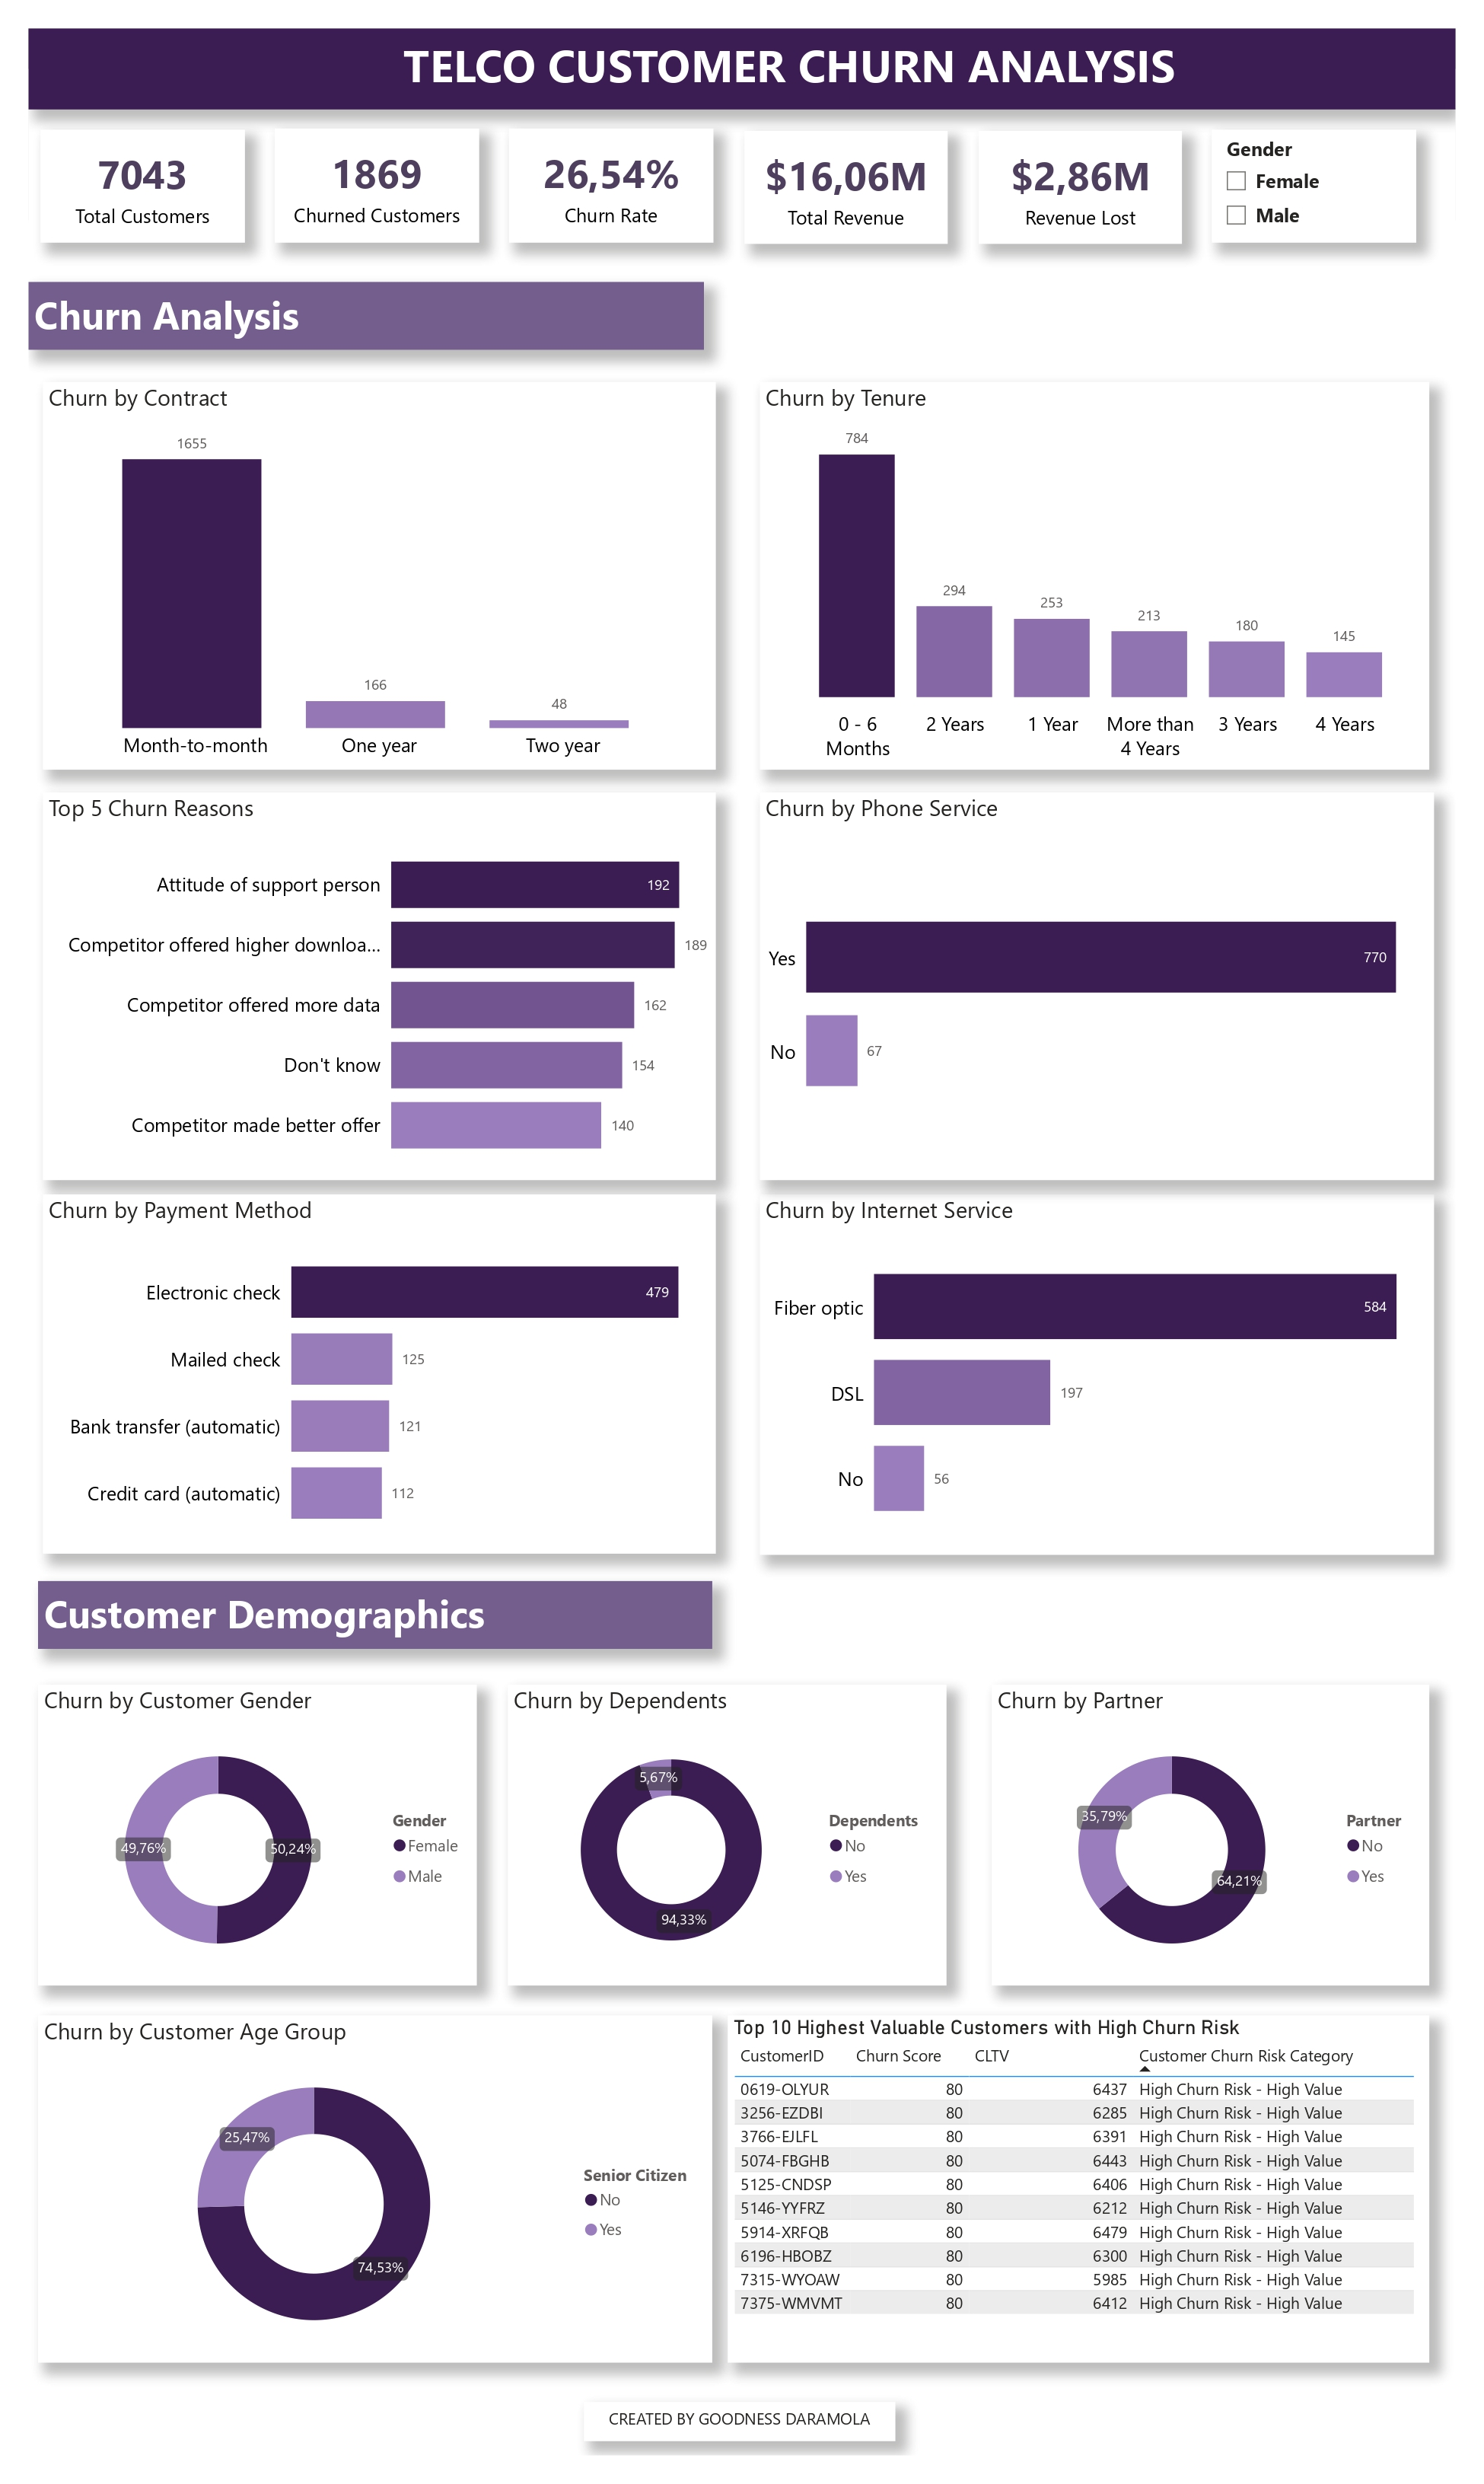

This screenshot's page, from the dashboard's own definition file:
{"tool":"powerbi","page":{"name":"Page 1","canvas":[1200,2040],"ordinal":0},"visuals":[{"type":"textbox","box":[0,0,1280,68.3],"z":0},{"type":"card","fields":{"Values":["#Measures.Total Customers"]},"box":[10,85,171.7,95],"z":1000},{"type":"card","fields":{"Values":["#Measures.Total Churnned Customers"]},"box":[207.3,84.3,171.4,95.7],"z":2000},{"type":"card","fields":{"Values":["#Measures.Churn Rate"]},"box":[404.4,84.3,171.4,95.7],"z":3000},{"type":"card","fields":{"Values":["#Measures.Total Revenue"]},"box":[601.5,85.7,171.4,95.7],"z":4000},{"type":"slicer","fields":{"Values":["Telco_Churn.Gender"]},"box":[995,85,171.7,95],"z":5000},{"type":"card","fields":{"Values":["#Measures.Revenue Lost"]},"box":[798.6,85.7,171.4,95.7],"z":6000},{"type":"clusteredBarChart","title":"Top 5 Churn Reasons","fields":{"Category":["Telco_Churn.Churn Reason"],"Y":["CountNonNull(Telco_Churn.CustomerID)"]},"box":[11.7,641.7,566.7,326.7],"z":7000},{"type":"clusteredColumnChart","title":"Churn by Contract","fields":{"Category":["Telco_Churn.Contract"],"Y":["Sum(Telco_Churn.Churn Value)"]},"box":[11.7,296.7,566.7,326.7],"z":8000},{"type":"clusteredColumnChart","title":"Churn by Tenure","fields":{"Y":["Sum(Telco_Churn.Churn Value)"],"Category":["Telco_Churn.Tenure Months (groups)"]},"box":[615,296.7,563.3,326.7],"z":9000},{"type":"clusteredBarChart","title":"Churn by Internet Service","fields":{"Category":["Telco_Churn.Internet Service"],"Y":["Sum(Telco_Churn.Churn Value)"]},"box":[615,980,566.7,303.3],"z":10000},{"type":"clusteredBarChart","title":"Churn by Payment Method","fields":{"Y":["Sum(Telco_Churn.Churn Value)"],"Category":["Telco_Churn.Payment Method"]},"box":[11.7,980,566.7,301.7],"z":11000},{"type":"clusteredBarChart","title":"Churn by Phone Service","fields":{"Y":["Sum(Telco_Churn.Churn Value)"],"Category":["Telco_Churn.Phone Service"]},"box":[615,641.7,566.7,326.7],"z":12000},{"type":"textbox","box":[8.3,1305,566.7,56.7],"z":13000},{"type":"donutChart","title":"Churn by Customer Gender","fields":{"Category":["Telco_Churn.Gender"],"Y":["Sum(Telco_Churn.Churn Value)"]},"box":[8.3,1391.7,368.3,253.3],"z":14000},{"type":"donutChart","title":"Churn by Dependents","fields":{"Category":["Telco_Churn.Dependents"],"Y":["Sum(Telco_Churn.Churn Value)"]},"box":[403.3,1391.7,368.3,253.3],"z":15000},{"type":"donutChart","title":"Churn by Partner","fields":{"Category":["Telco_Churn.Partner"],"Y":["Sum(Telco_Churn.Churn Value)"]},"box":[810,1391.7,368.3,253.3],"z":16000},{"type":"donutChart","title":"Churn by Customer Age Group","fields":{"Y":["Sum(Telco_Churn.Churn Value)"],"Series":["Telco_Churn.Senior Citizen"]},"box":[8.3,1670,566.7,291.7],"z":17000},{"type":"tableEx","title":"Top 10 Highest Valuable Customers with High Churn Risk","fields":{"Values":["Telco_Churn.CustomerID","Telco_Churn.Churn Score","Telco_Churn.CLTV","Telco_Churn.Customer Churn Risk Category"]},"box":[588.3,1670,590,291.7],"z":18000},{"type":"textbox","box":[467.5,1995,261.7,33.3],"z":19000},{"type":"textbox","box":[0,212.5,567.5,57.5],"z":20000}]}

Visuals, with their boxes in screenshot pixels (x1, y1, x2, y2):
textbox: 29/29/1455/110
card - #Measures.Total Customers: 40/129/244/243
card - #Measures.Total Churnned Customers: 275/129/479/243
card - #Measures.Churn Rate: 509/129/713/243
card - #Measures.Total Revenue: 744/130/947/244
slicer - Telco_Churn.Gender: 1212/129/1416/243
card - #Measures.Revenue Lost: 978/130/1182/244
"Top 5 Churn Reasons" clusteredBarChart: 43/792/716/1181
"Churn by Contract" clusteredColumnChart: 43/381/716/770
"Churn by Tenure" clusteredColumnChart: 760/381/1430/770
"Churn by Internet Service" clusteredBarChart: 760/1194/1434/1555
"Churn by Payment Method" clusteredBarChart: 43/1194/716/1553
"Churn by Phone Service" clusteredBarChart: 760/792/1434/1181
textbox: 38/1581/712/1648
"Churn by Customer Gender" donutChart: 38/1684/476/1985
"Churn by Dependents" donutChart: 508/1684/946/1985
"Churn by Partner" donutChart: 992/1684/1430/1985
"Churn by Customer Age Group" donutChart: 38/2015/712/2362
"Top 10 Highest Valuable Customers with High Churn Risk" tableEx: 728/2015/1430/2362
textbox: 584/2402/896/2441
textbox: 29/282/703/349
